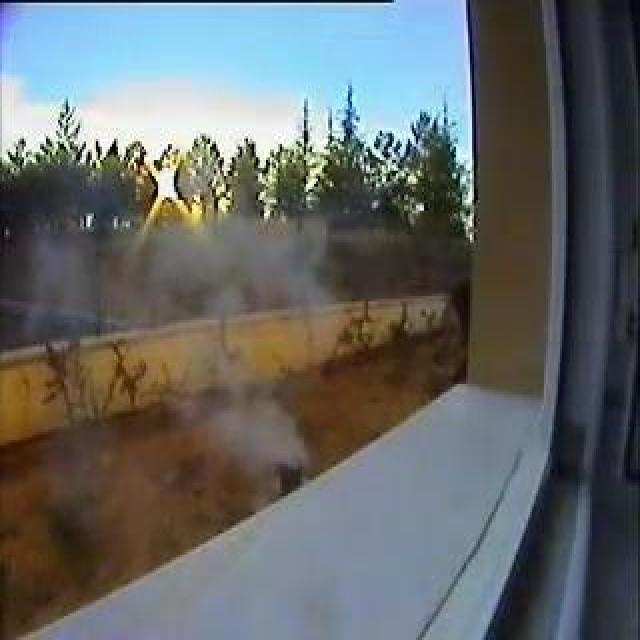Smoke: (209, 390, 305, 462)
